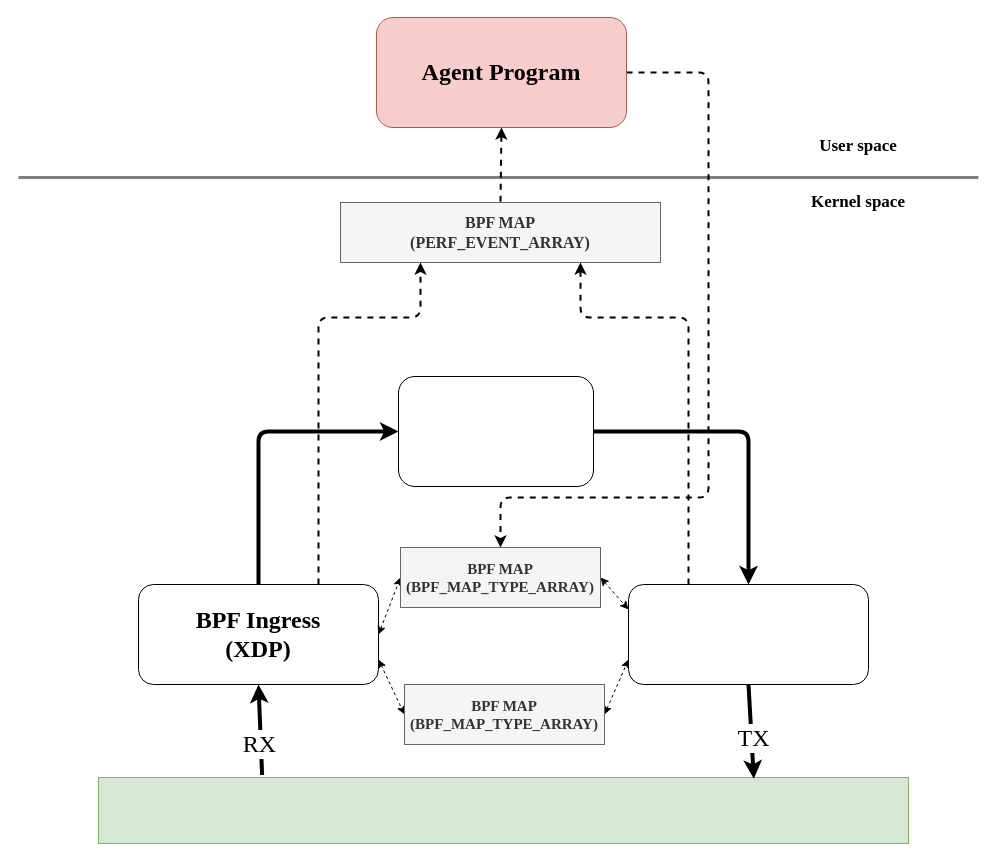
Some shapes in this 998 by 861 pixel diagram are drawn without their labels. The shapes that lost their labels are listed below. From the top down, each one's centre as x and y in pixels, then its label:
(x=496, y=431): Netfilter
(x=748, y=634): BPF Egress (TC Egress)
(x=503, y=810): NIC
